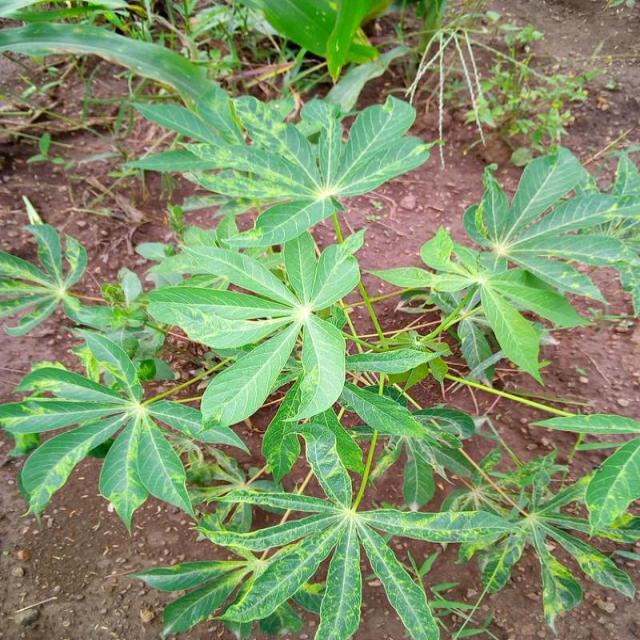Mosaico: (442, 455, 640, 607), (149, 501, 326, 635), (201, 91, 319, 240)
